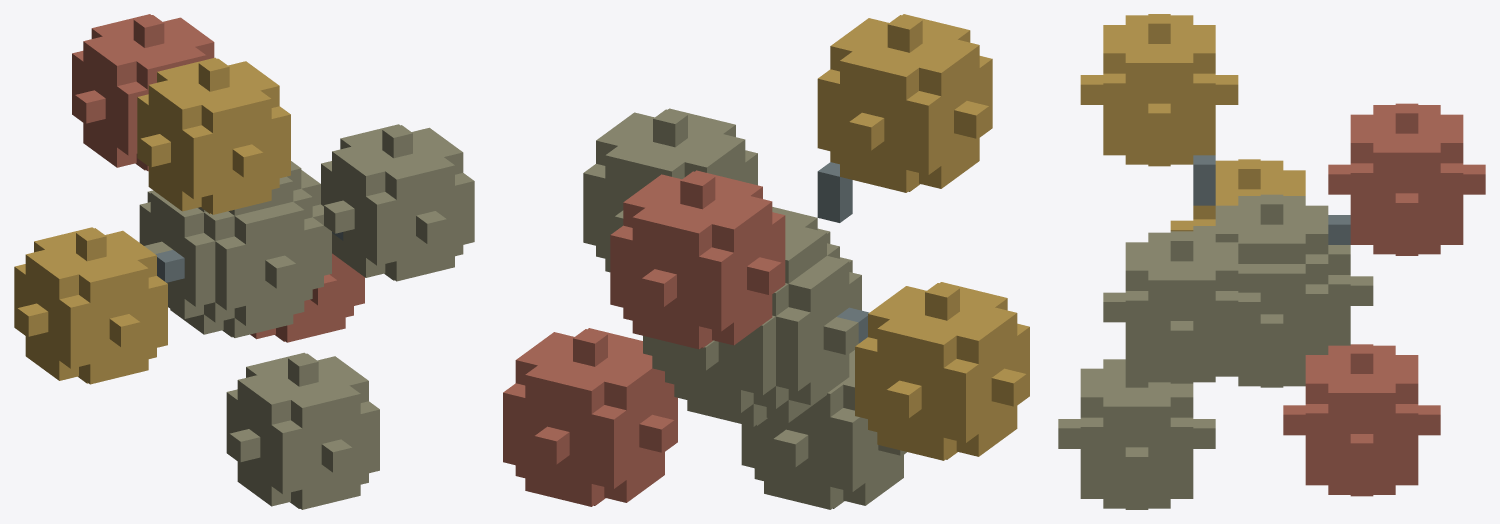
Rendered from fitness-10.glb.
3 renders of one model, left to right at view 1: azimuth 30°, elevation 25°; view 2: azimuth 150°, elevation 25°; view 3: azimuth 270°, elevation 25°, orthographic. The views are drawn at different scales.
Visible parts, largest first — view 1: Resistance bands; view 2: Resistance bands; view 3: Resistance bands.
Part boxes in pixels (<box>): Resistance bands: <box>14,14,474,509</box>; Resistance bands: <box>503,14,1029,509</box>; Resistance bands: <box>1058,14,1485,509</box>.
Bounding box in the file's own units: 1.68 × 1.76 × 1.52.
